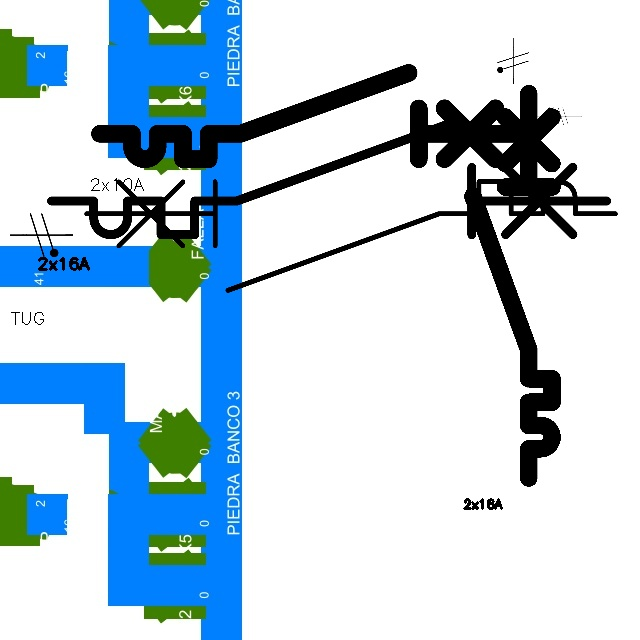interruptor_termomagnetico: (37, 106, 621, 249), (72, 168, 628, 304), (89, 62, 532, 170), (463, 83, 562, 487)
